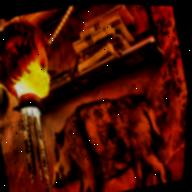boar: (34, 84, 178, 192)
